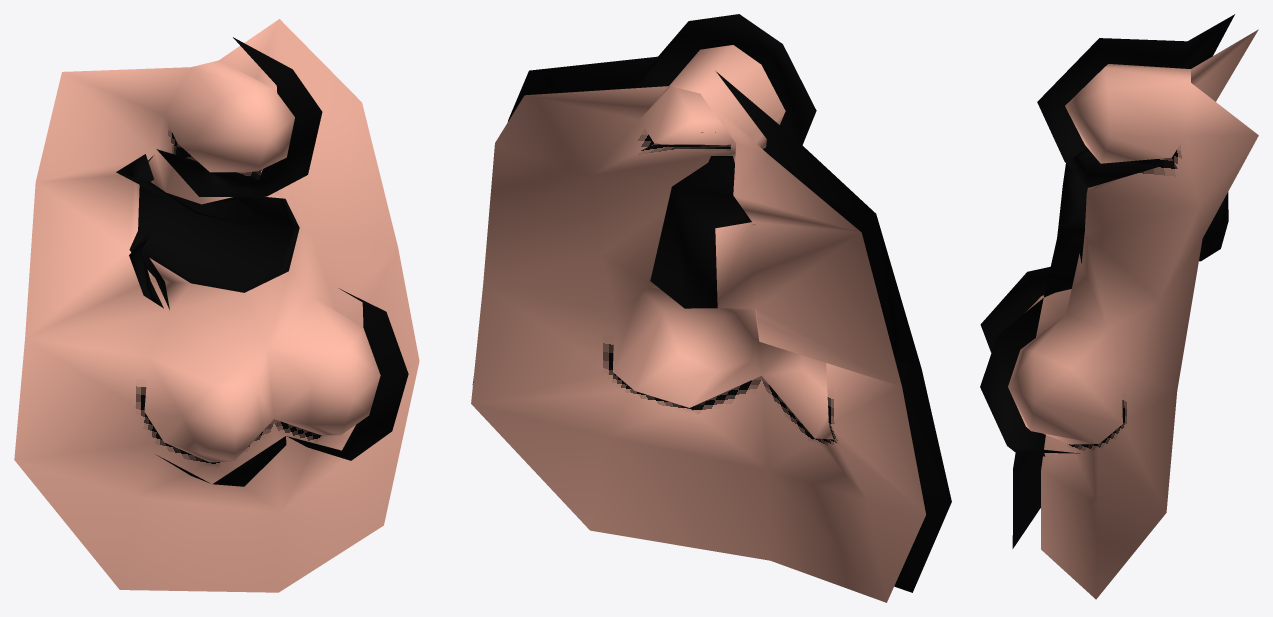
File: mouth_7.obj
The picture shows the model from 3 angles, left to right: view 1: azimuth 30°, elevation 25°; view 2: azimuth 150°, elevation 25°; view 3: azimuth 270°, elevation 25°; orthographic projection. The views are drawn at different scales.
Visible parts, largest first — view 1: Mesh_0089_Mesh_0089Mesh, Mesh_0090.001_Mesh_0090Mesh.001; view 2: Mesh_0089_Mesh_0089Mesh, Mesh_0090.001_Mesh_0090Mesh.001; view 3: Mesh_0089_Mesh_0089Mesh, Mesh_0090.001_Mesh_0090Mesh.001.
Boxes of the visible parts, x1,y1,x2,y2 form: Mesh_0089_Mesh_0089Mesh: (14, 19, 419, 592); Mesh_0090.001_Mesh_0090Mesh.001: (116, 37, 408, 486); Mesh_0089_Mesh_0089Mesh: (471, 45, 925, 602); Mesh_0090.001_Mesh_0090Mesh.001: (472, 14, 951, 592); Mesh_0089_Mesh_0089Mesh: (1008, 29, 1258, 599); Mesh_0090.001_Mesh_0090Mesh.001: (980, 14, 1234, 548).
Bounding box in the file's own units: 0.368 × 0.4169 × 0.2082.
Materials: 2 (2 with a texture image).
